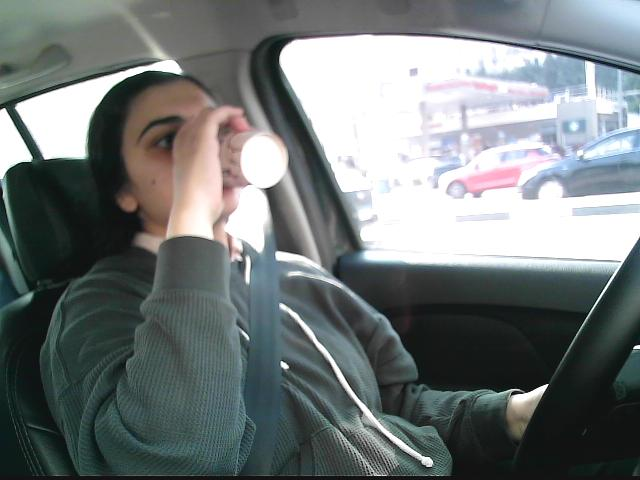Drinking: (198, 112, 290, 194)
